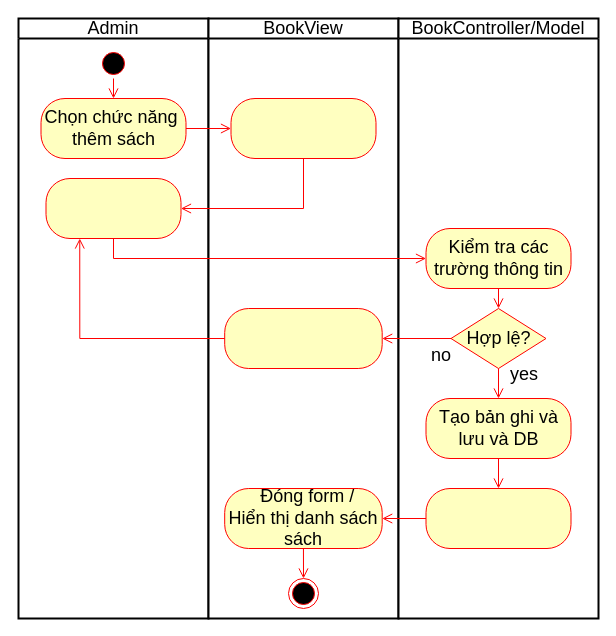
Image size: 616x636. Some labels were removed from this diagram. The centre of each missing label's shape, as x and y in pixels:
Hiển thị form thêm sách: [303,128]
Thông báo lỗi/thiếu trường thông tin: [303,338]
Trả về thông tin sách vừa tạo: [498,518]
Điền thông tin sách: [113,208]
